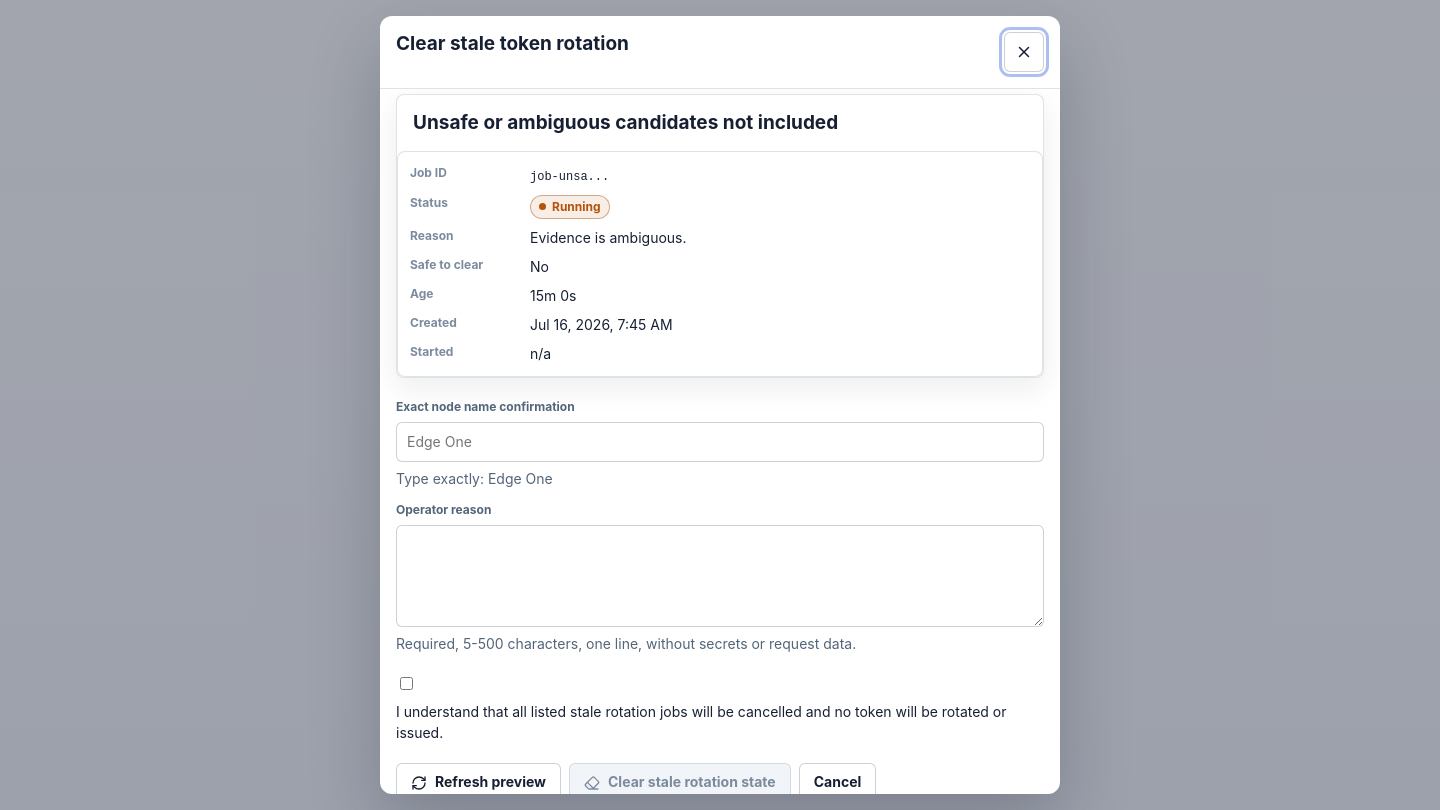
Scenario: NodeStaleRotationClearDialog › submits the exact complete immutable safe set and context fingerprint once
The image size is (1440, 810).
(page scrolled)
Type " Edge One " into the field labelled "Exact node name confirmation" at [720, 442], box x1=396 y1=422 x2=1044 y2=462
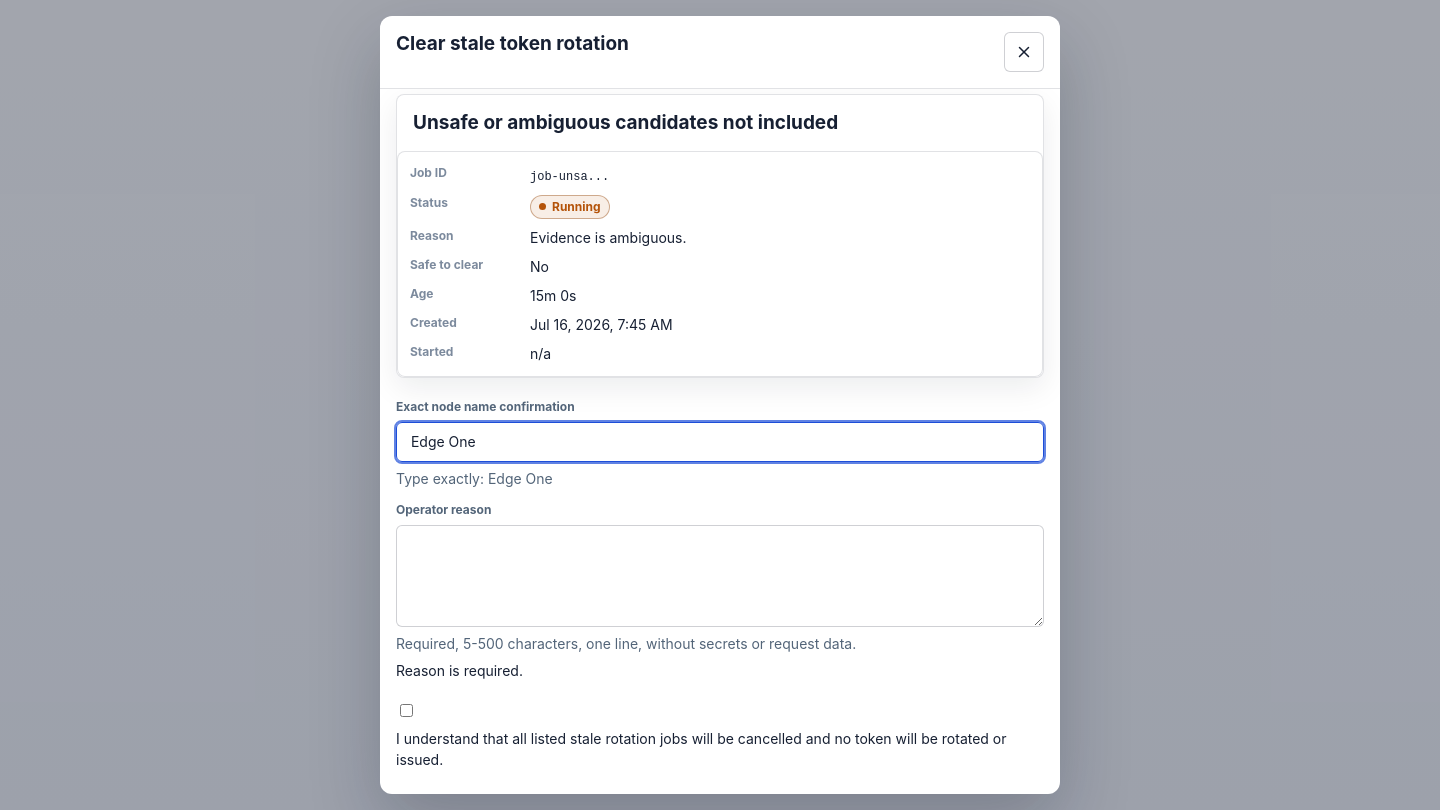
Type " reviewed stale rotation " into the text box labelled "Operator reason" at [720, 576], box x1=396 y1=524 x2=1044 y2=626
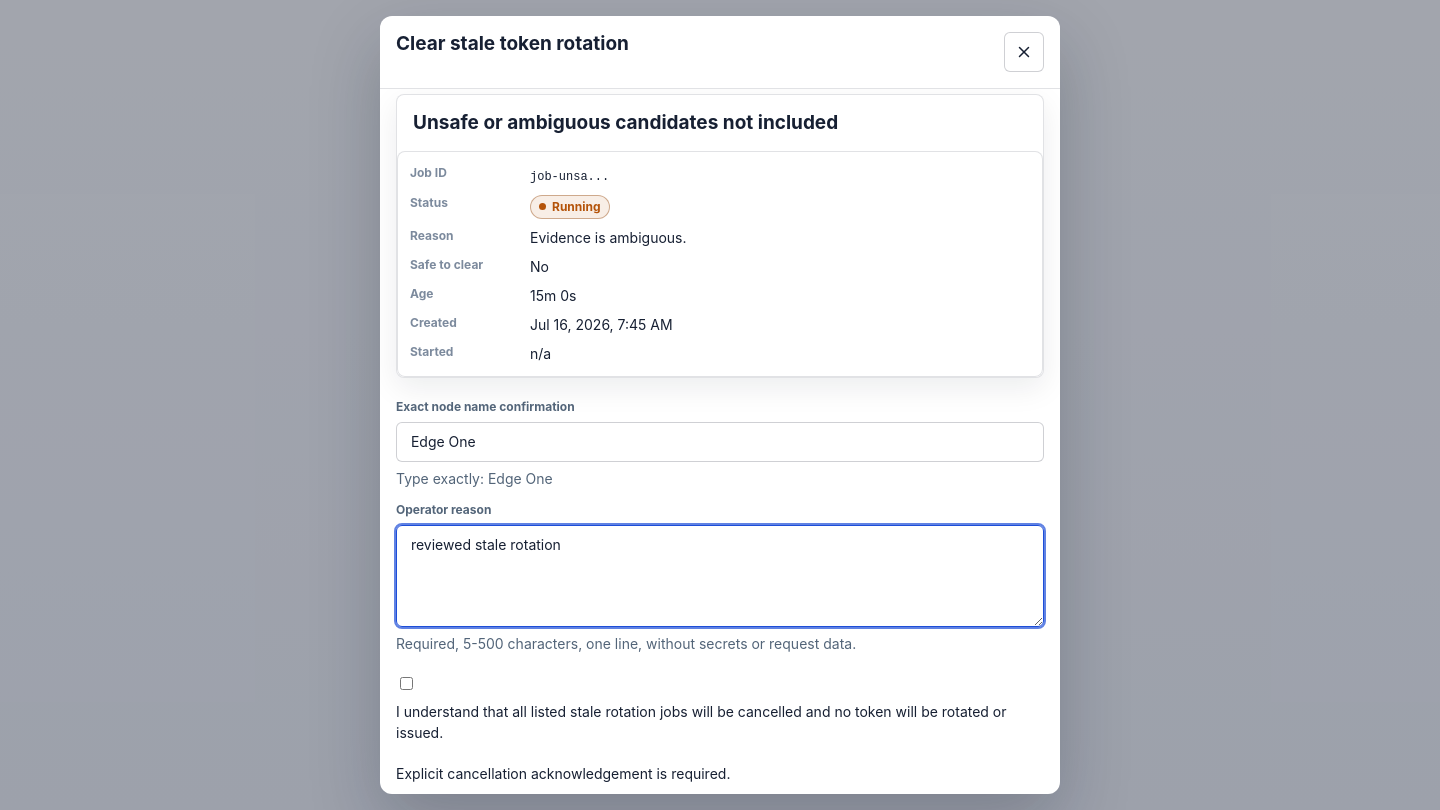
Click the checkbox labelled "all listed stale rotation jobs will be cancelled" at [406, 683], box x1=400 y1=676 x2=413 y2=690
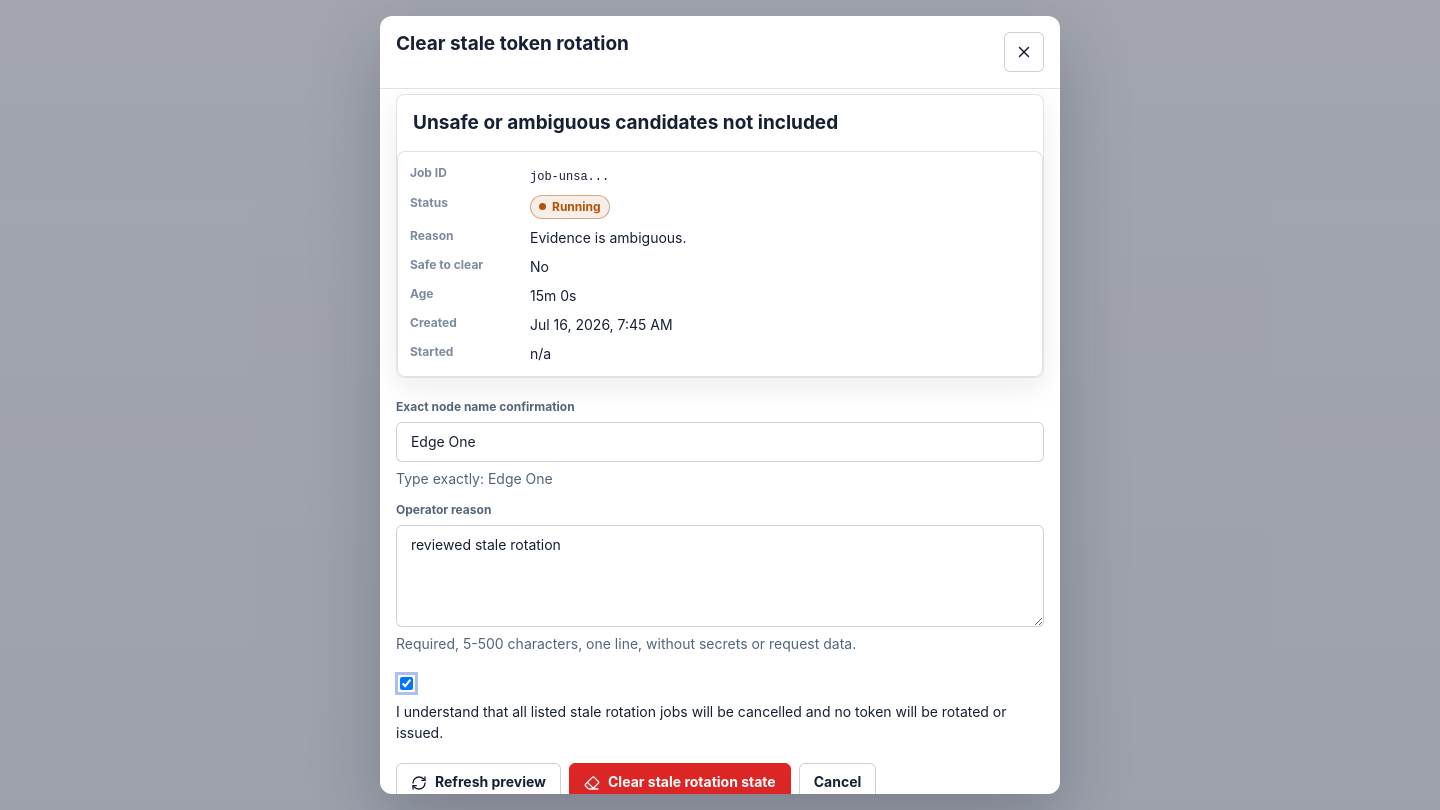
Now the button "Clear stale rotation state" is enabled, box x1=569 y1=762 x2=791 y2=794
Double-click the button "Clear stale rotation state" at [680, 782], box x1=569 y1=762 x2=791 y2=802
(page scrolled)
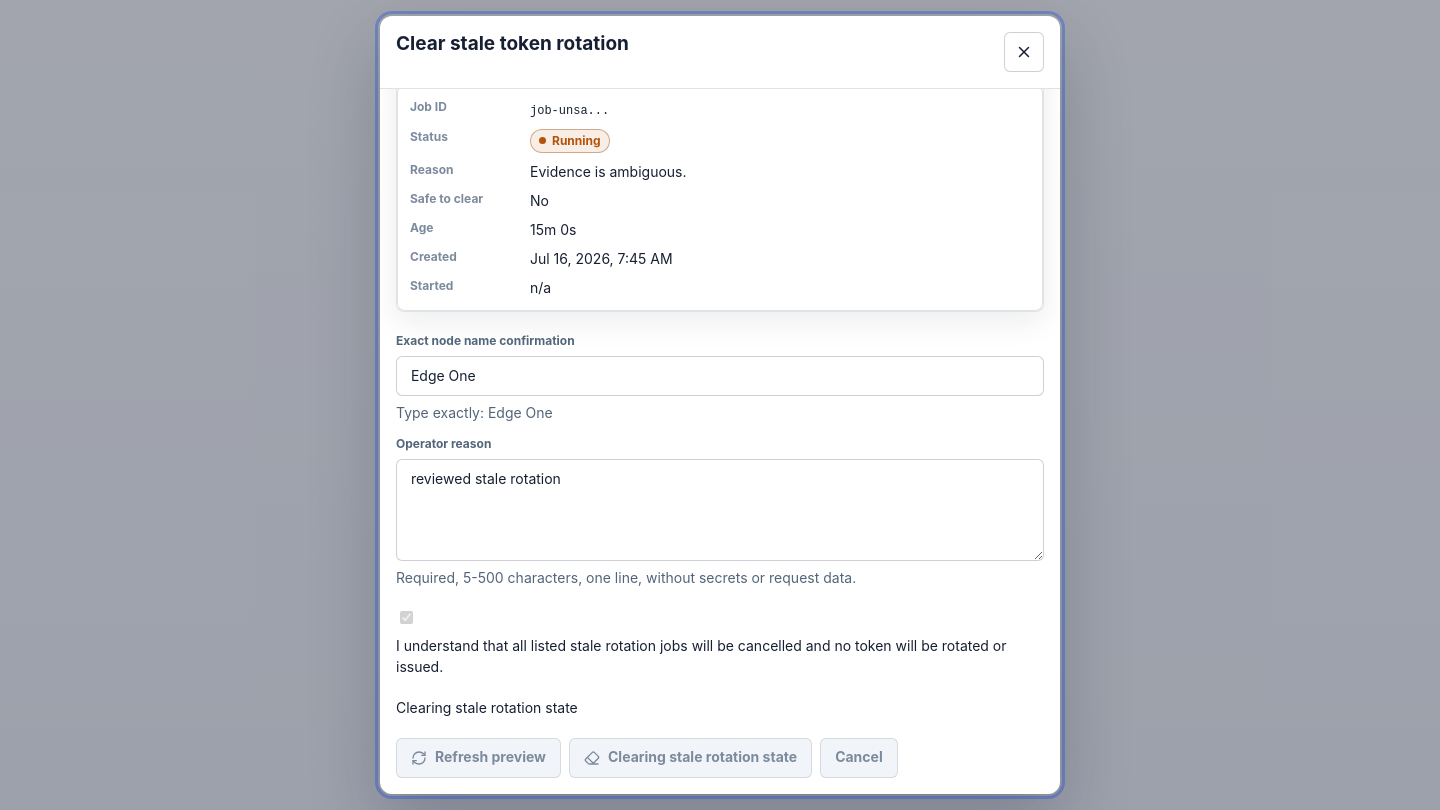
Now the button "Clearing stale rotation state" is disabled, box x1=569 y1=738 x2=812 y2=778
